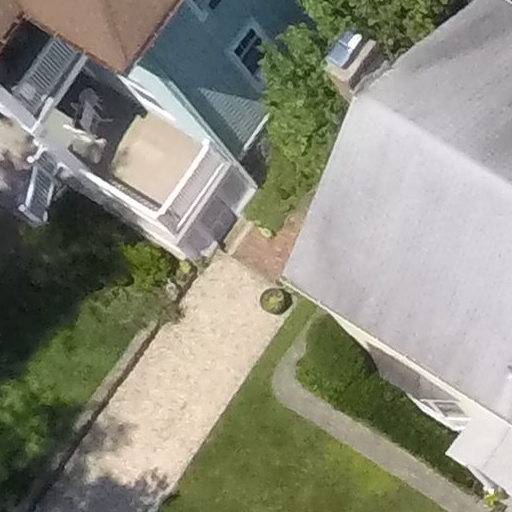container: (162, 280, 185, 299)
pot: (256, 285, 296, 320)
